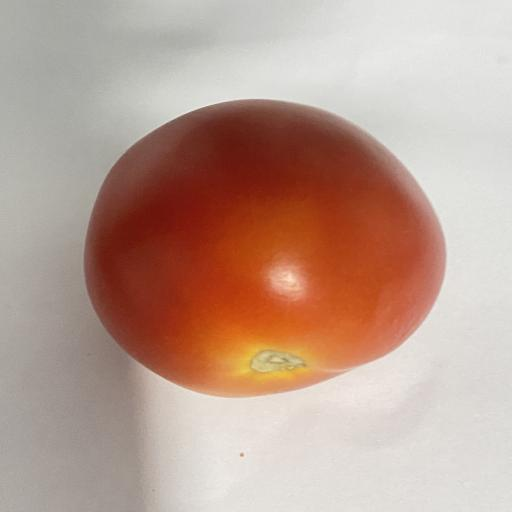ripe: (84, 100, 445, 397)
